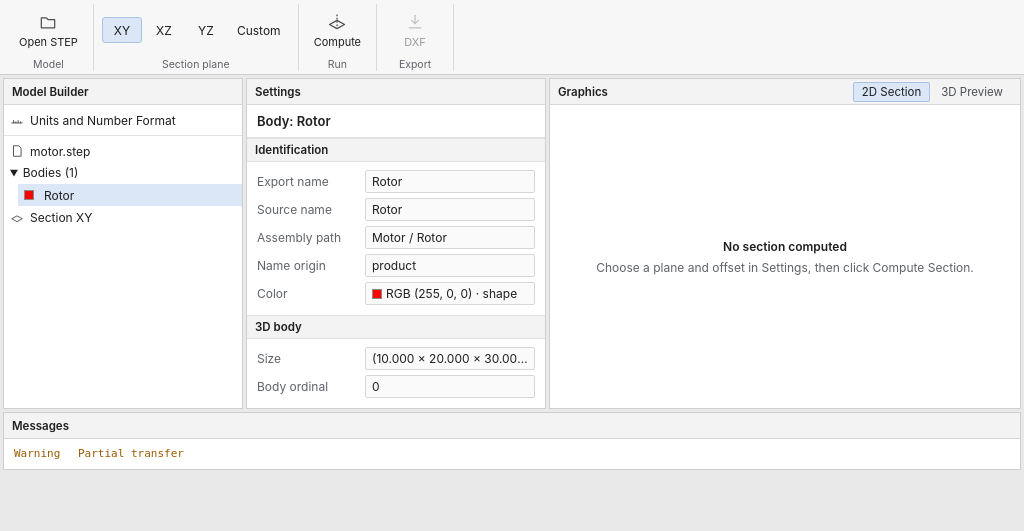
Test: STEP workspace › keeps the current model when a later import fails
Click the button "motor.step": point(123, 151) [4, 140, 242, 162]
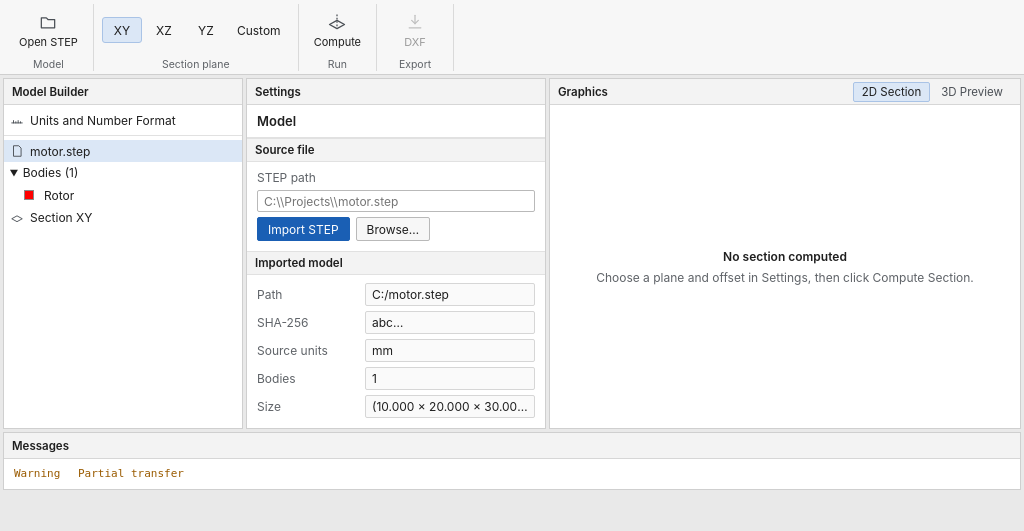
In the field labelled "STEP path": point(396, 201) [257, 190, 535, 212], type "C:/missing.step"
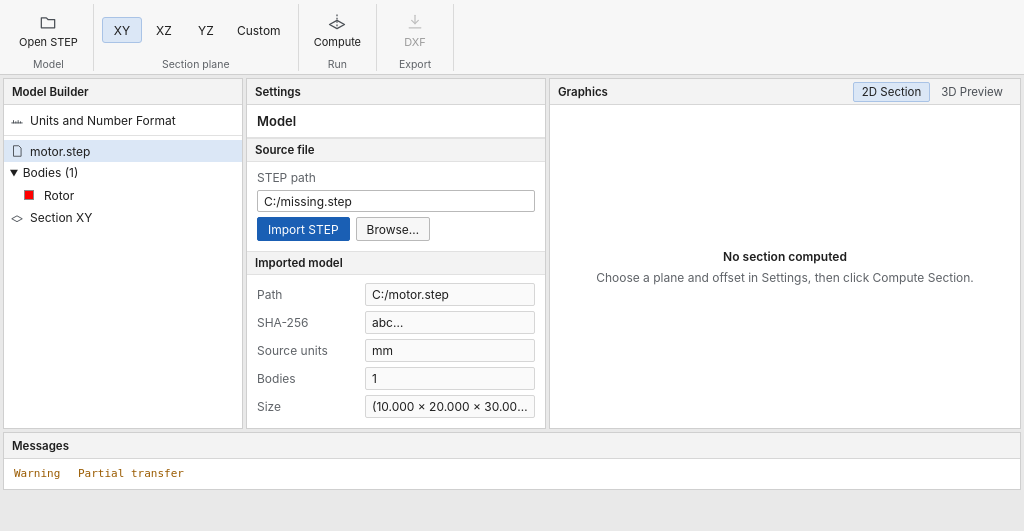
Click the button "Import STEP": point(303, 229) [257, 217, 350, 241]
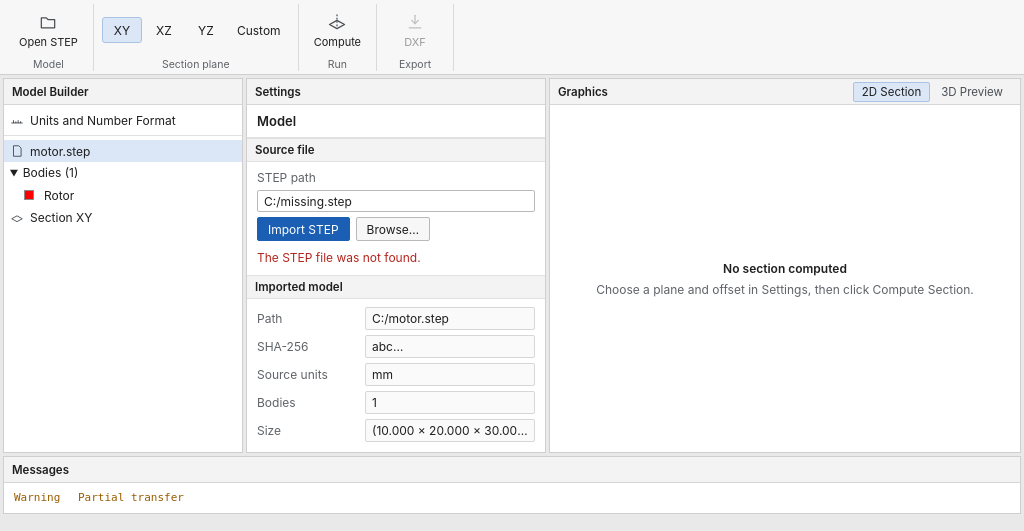
Expected: the button "Rotor" is shown, [18, 184, 242, 206]
Expected: the message reads "The STEP file was not found.", [257, 250, 421, 265]
